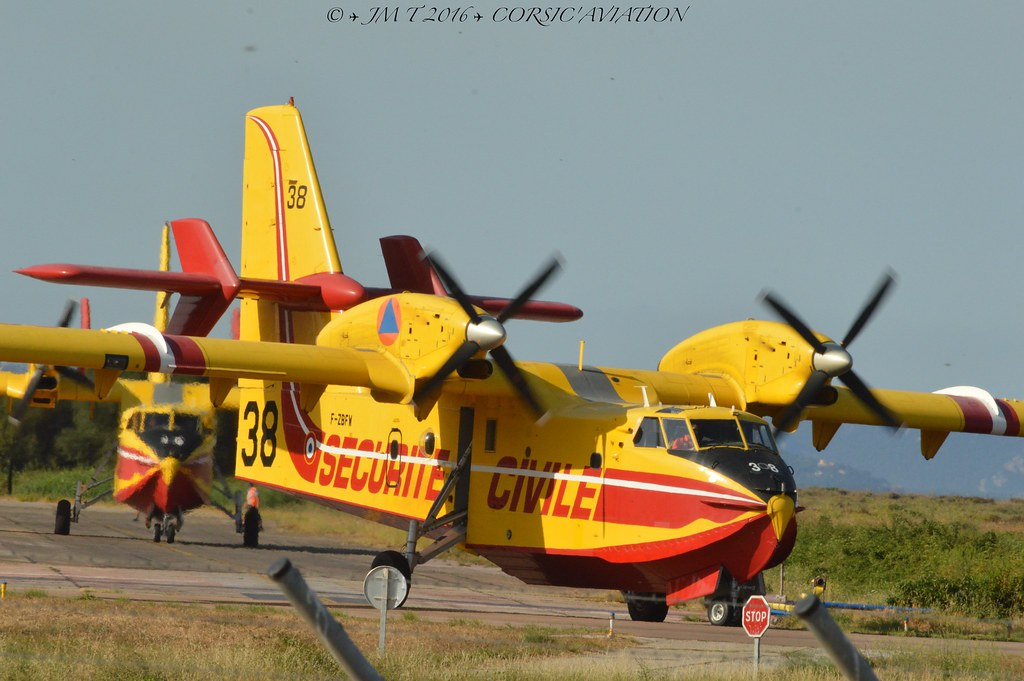Aeronef_de_service: (1, 93, 1024, 631), (3, 296, 291, 561)
